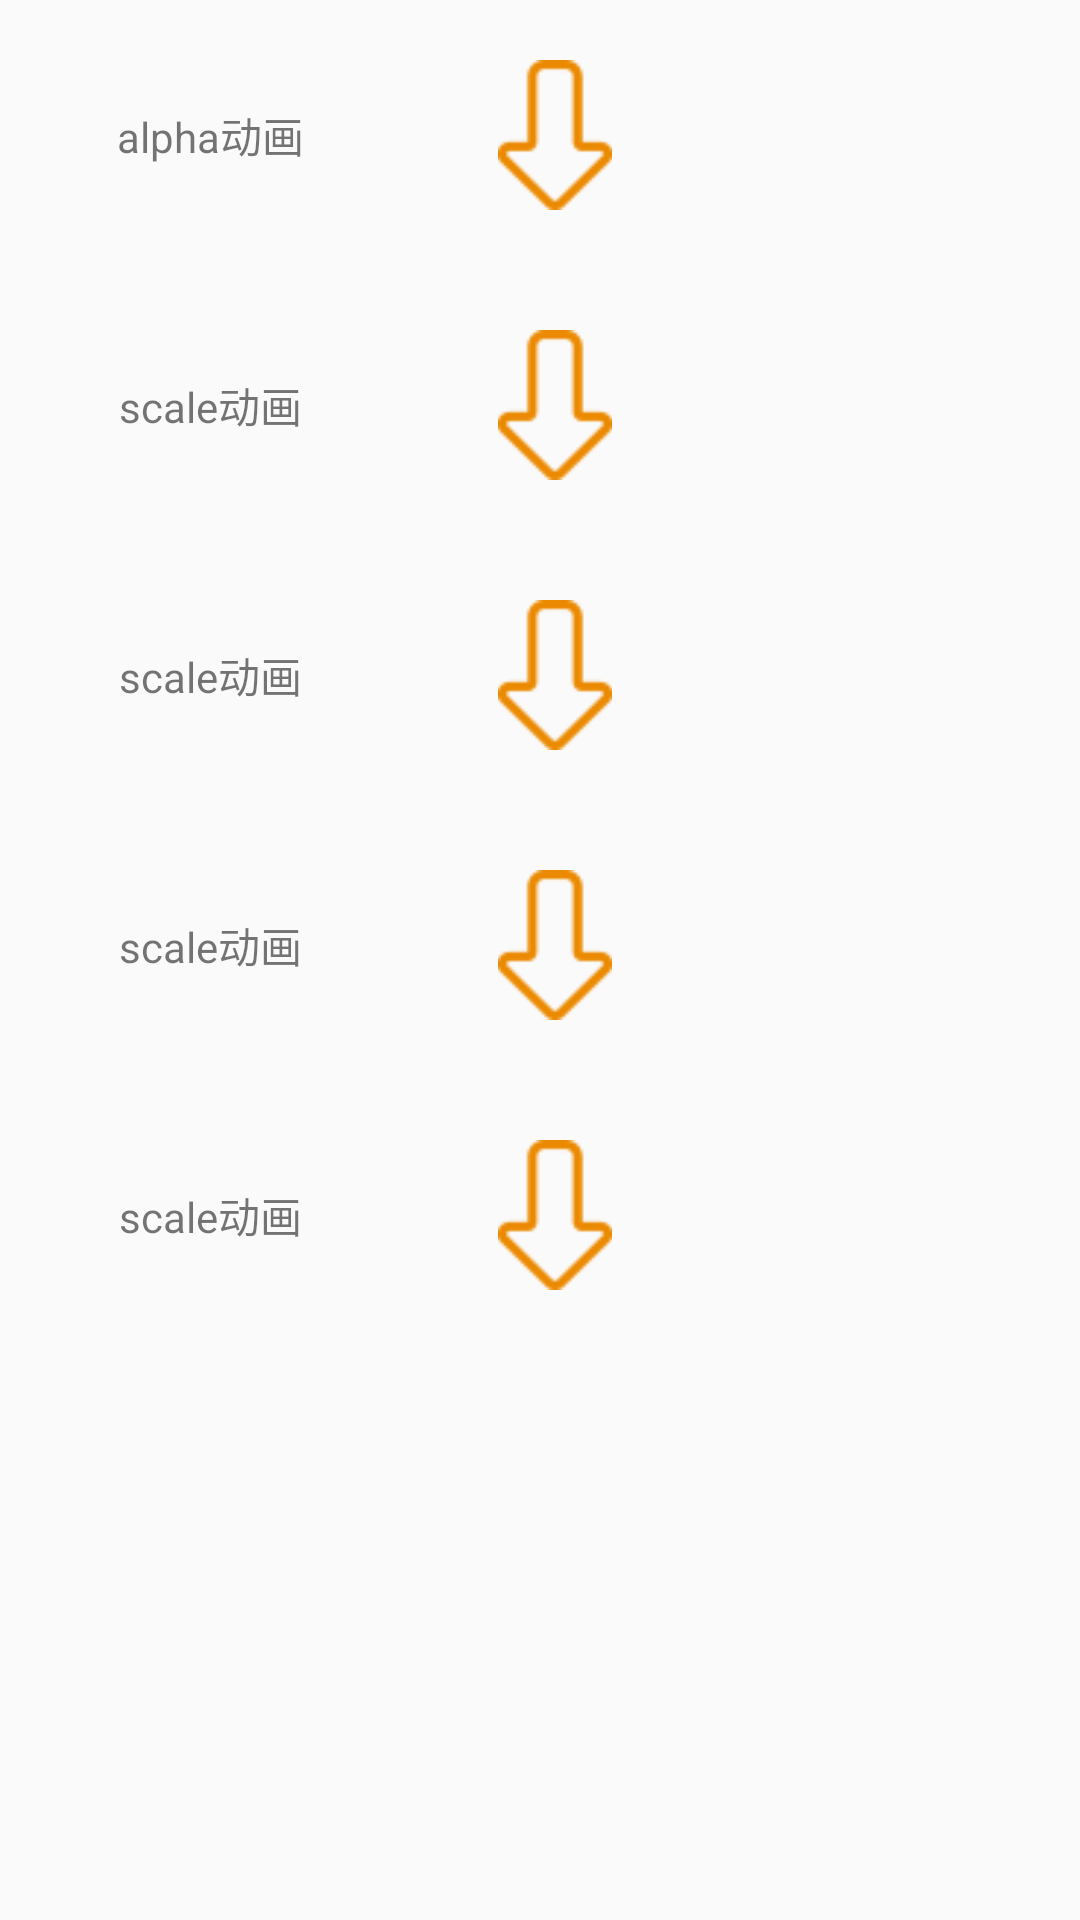

Where icons sit on this 1080 × 1920 app screen, as [x1, y1, x2, y2]:
arrow down: [498, 60, 612, 210], [498, 330, 612, 480], [498, 600, 612, 750], [498, 870, 612, 1020], [498, 1140, 612, 1290]
